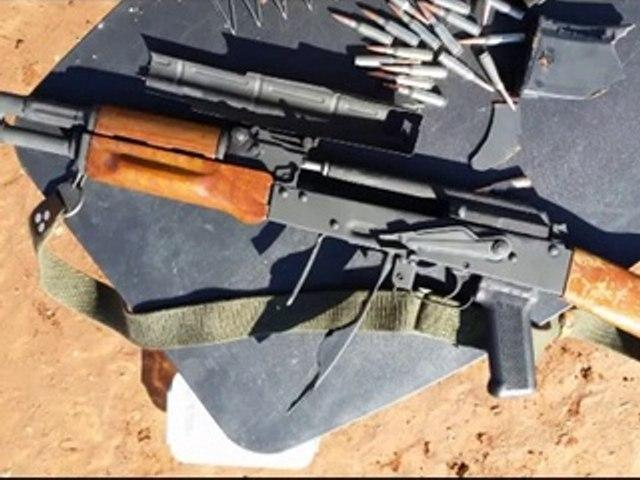larga: (0, 51, 640, 400)
